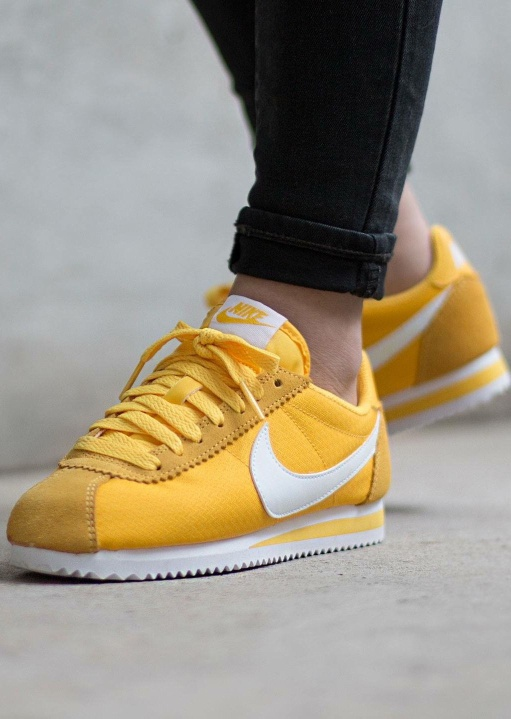nike: (241, 415, 386, 522)
